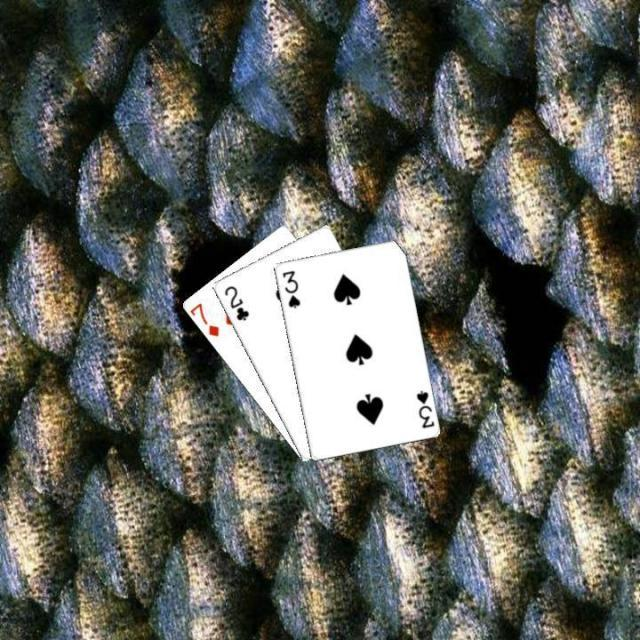2C: (220, 282, 251, 323)
3S: (412, 387, 436, 431), (279, 267, 302, 309)
7D: (187, 299, 221, 339)
